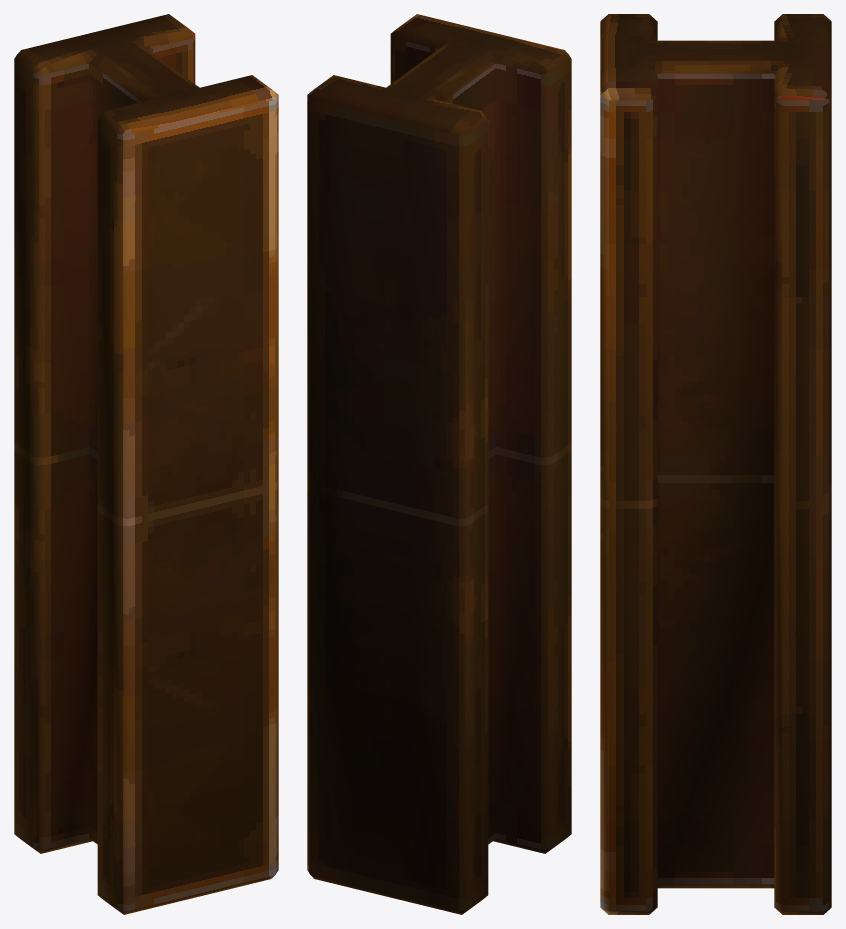
The model's file is item_steel_beam_xmas.glb.
3 renders of one model, left to right at view 1: azimuth 30°, elevation 25°; view 2: azimuth 150°, elevation 25°; view 3: azimuth 270°, elevation 25°, orthographic. The views are drawn at different scales.
Parts seen in each view (by area): view 1: SteelBeam; view 2: SteelBeam; view 3: SteelBeam.
Part boxes in pixels (x1,y1,x2,y2): SteelBeam: (14,14,278,914); SteelBeam: (307,14,571,914); SteelBeam: (600,14,831,914).
Bounding box in the file's own units: 0.3338 × 1.56 × 0.3964.
1 material, 1 textured.
